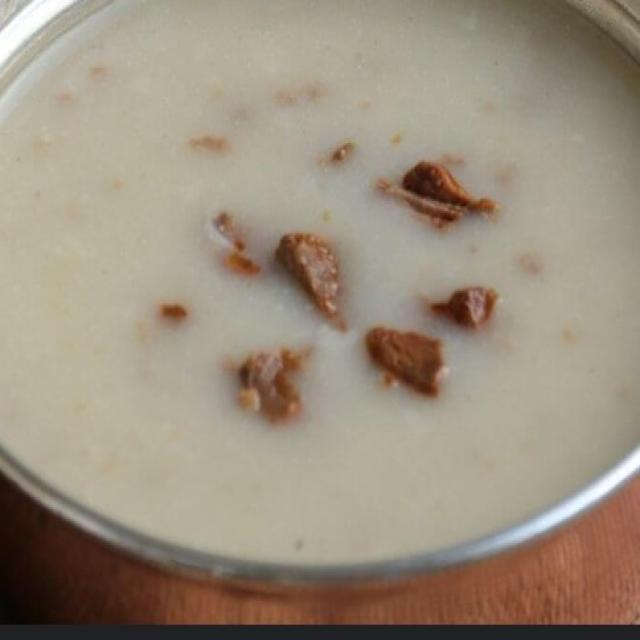corba: (0, 0, 639, 587)
